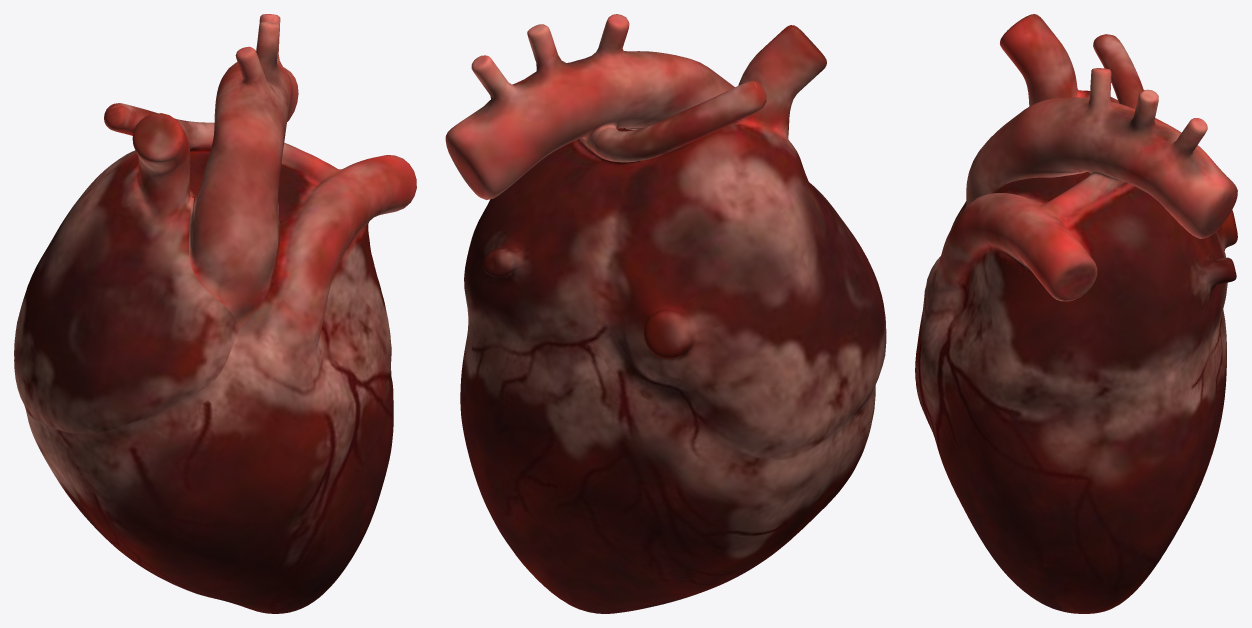
File: normal-heart.glb
3 renders of one model, left to right at view 1: azimuth 30°, elevation 25°; view 2: azimuth 150°, elevation 25°; view 3: azimuth 270°, elevation 25°, orthographic. The views are drawn at different scales.
Visible parts, largest first — view 1: Heart; view 2: Heart; view 3: Heart.
Boxes of the visible parts, <box> form: Heart: <box>14,14,416,613</box>; Heart: <box>445,14,886,613</box>; Heart: <box>915,14,1237,613</box>.
Bounding box in the file's own units: 1.21 × 1.79 × 0.9834.
Materials: 1 (1 with a texture image).
